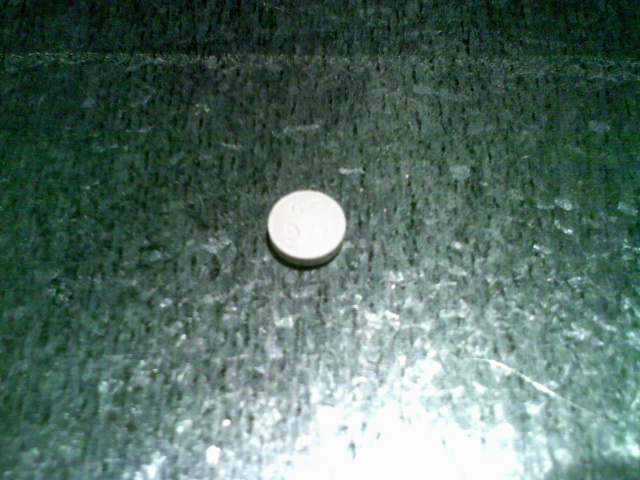7: (313, 220, 329, 243)
9: (285, 222, 303, 243)
G: (306, 197, 324, 217), (288, 197, 305, 217)
